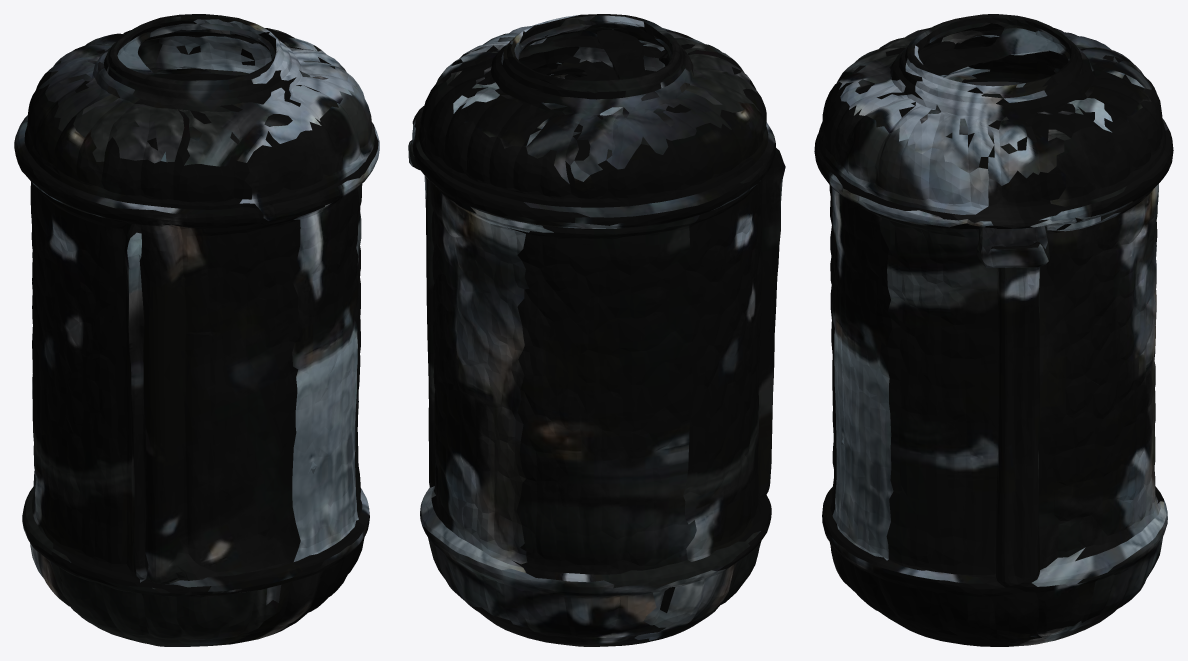
File: corbeille.glb
3 renders of one model, left to right at view 1: azimuth 30°, elevation 25°; view 2: azimuth 150°, elevation 25°; view 3: azimuth 270°, elevation 25°, orthographic.
Visible parts, largest first — view 1: corbeille; view 2: corbeille; view 3: corbeille.
Part boxes in pixels (x1,y1,x2,y2): corbeille: (14,14,379,646); corbeille: (408,14,785,646); corbeille: (814,14,1173,646).
Bounding box in the file's own units: 0.6061 × 0.9922 × 0.5833.
Materials: 1 (1 with a texture image).
